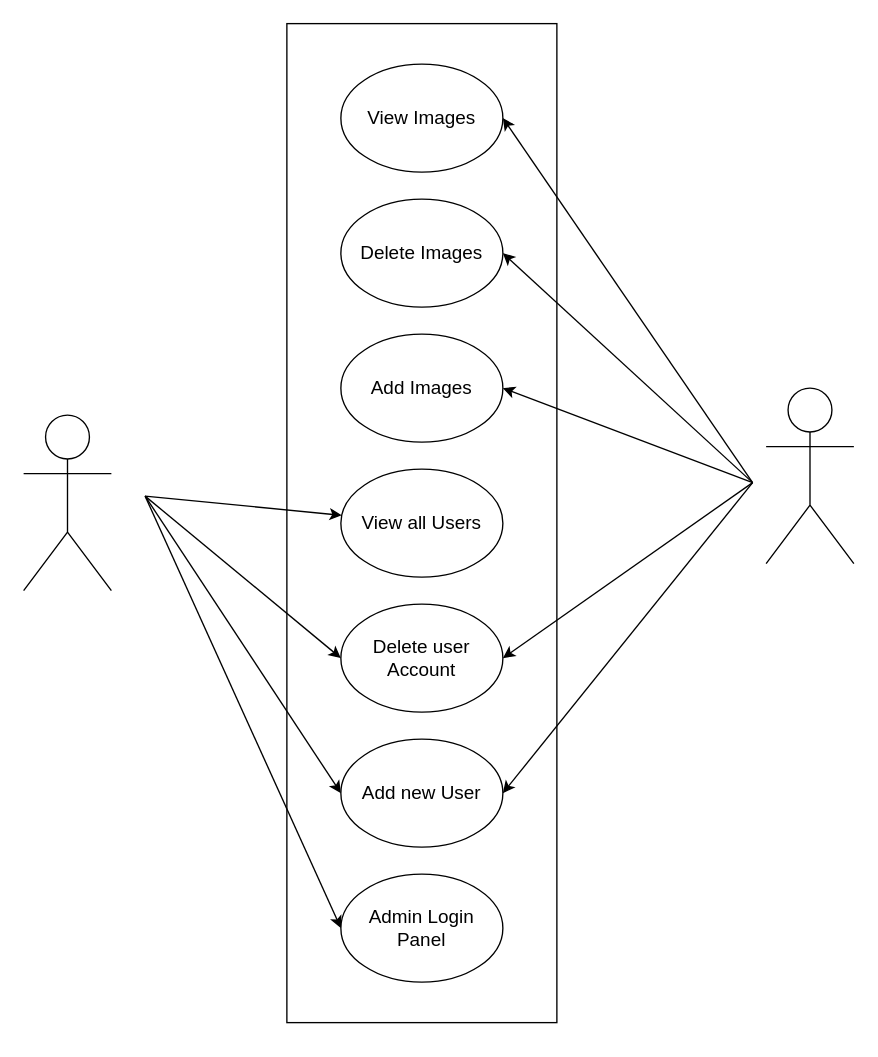
The diagram is 878 pixels wide and 1057 high, and some of its shapes have lost their labels. The centre of each missing label's shape, as x and y in pixels:
Admin: the point at 66,502
USer: the point at 809,475
